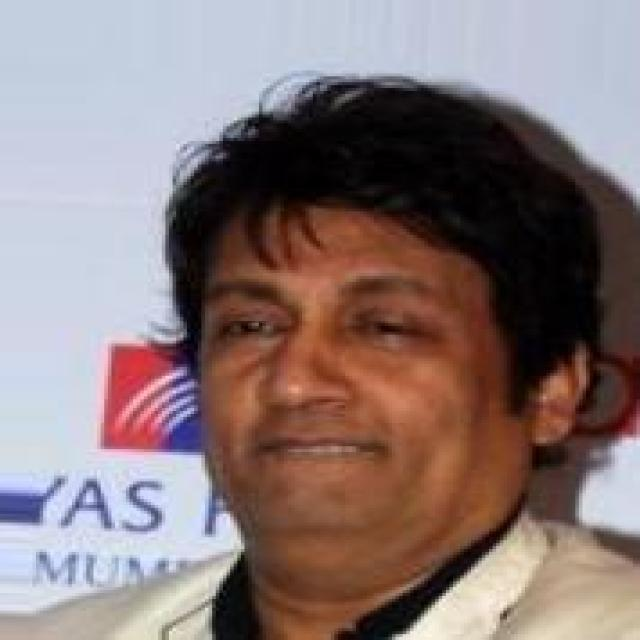bareface: (200, 92, 552, 550)
